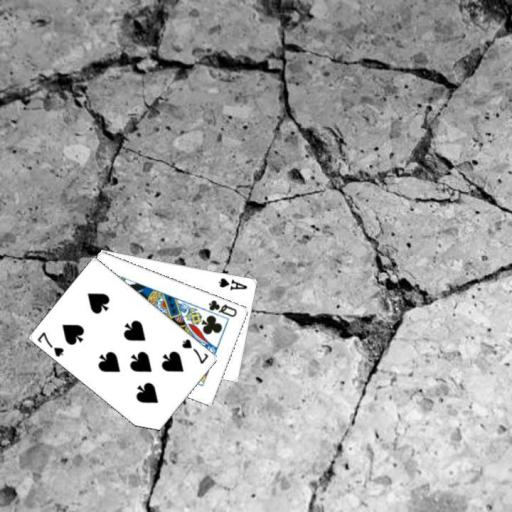7S: (179, 336, 211, 366), (34, 329, 66, 359)
AS: (216, 275, 249, 292)
QC: (205, 297, 239, 319)
